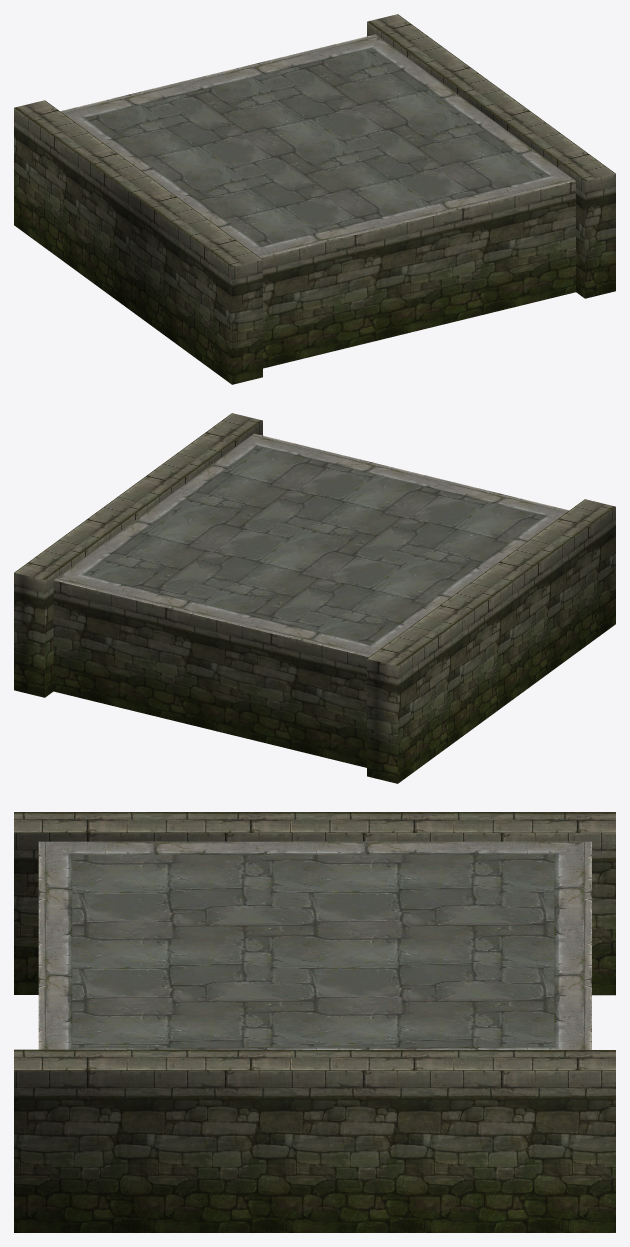
File: environment_building_pingtai_004_d.FBX
3 views of the same model, one above another, from view 1: azimuth 30°, elevation 25°; view 2: azimuth 150°, elevation 25°; view 3: azimuth 270°, elevation 25° (orthographic). The views are drawn at different scales.
Parts seen in each view (by area): view 1: environment_building_pingtai_004_d1, environment_building_pingtai_004_d3, environment_building_pingtai_004_d2; view 2: environment_building_pingtai_004_d1, environment_building_pingtai_004_d3, environment_building_pingtai_004_d2; view 3: environment_building_pingtai_004_d1, environment_building_pingtai_004_d3, environment_building_pingtai_004_d2.
Part boxes in pixels (x1=…): environment_building_pingtai_004_d1: x1=14, y1=14, x2=615, y2=384; environment_building_pingtai_004_d3: x1=86, y1=48, x2=547, y2=245; environment_building_pingtai_004_d2: x1=60, y1=34, x2=575, y2=257; environment_building_pingtai_004_d1: x1=14, y1=413, x2=615, y2=783; environment_building_pingtai_004_d3: x1=85, y1=446, x2=543, y2=644; environment_building_pingtai_004_d2: x1=54, y1=433, x2=569, y2=656; environment_building_pingtai_004_d1: x1=14, y1=812, x2=615, y2=1232; environment_building_pingtai_004_d3: x1=72, y1=854, x2=554, y2=1047; environment_building_pingtai_004_d2: x1=38, y1=841, x2=591, y2=1049.
Size of the model in its own units: 232 by 68.05 by 229.
